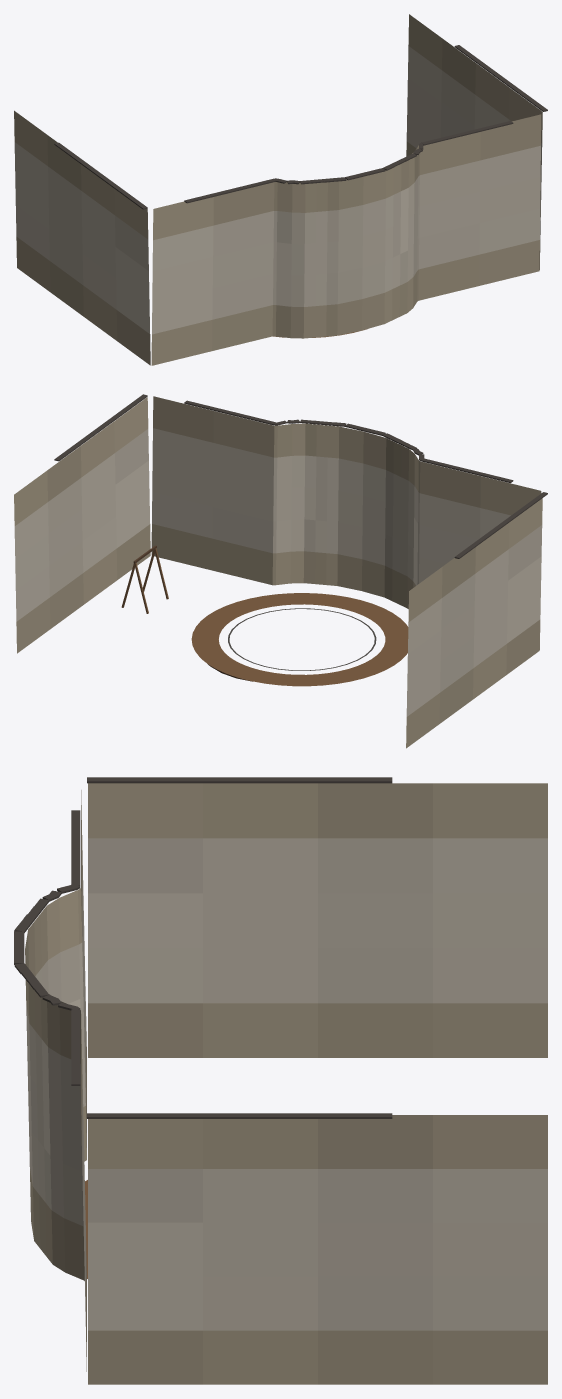
File: landmark_sinkhole_mid.glb
The picture shows the model from 3 angles, top to bottom: view 1: azimuth 30°, elevation 25°; view 2: azimuth 150°, elevation 25°; view 3: azimuth 270°, elevation 25°; orthographic projection. The views are drawn at different scales.
Parts seen in each view (by area): view 1: landmark_sinkhole_mid; view 2: landmark_sinkhole_mid; view 3: landmark_sinkhole_mid.
Boxes of the visible parts, <box> form: landmark_sinkhole_mid: <box>14,14,547,365</box>; landmark_sinkhole_mid: <box>14,394,547,748</box>; landmark_sinkhole_mid: <box>14,777,547,1384</box>.
Size of the model in its own units: 258 by 102 by 171.
